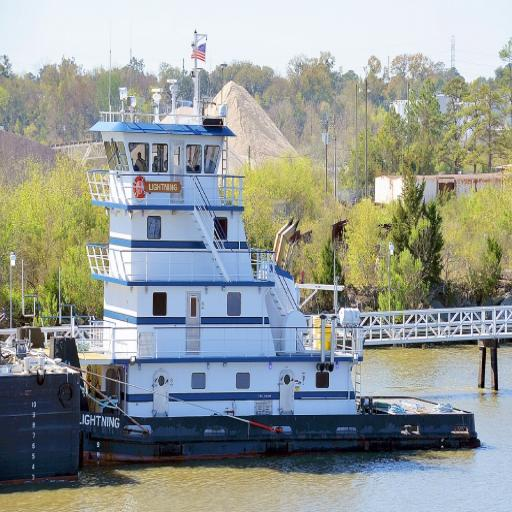tugboat: (14, 28, 485, 474)
